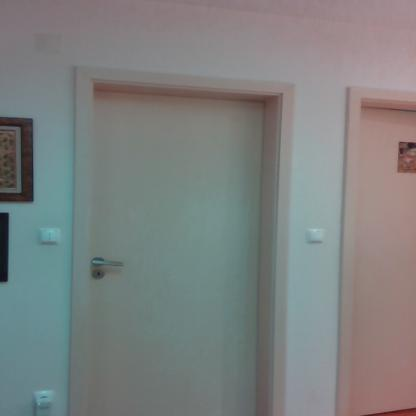door: (93, 88, 260, 416)
lever: (91, 258, 128, 268)
